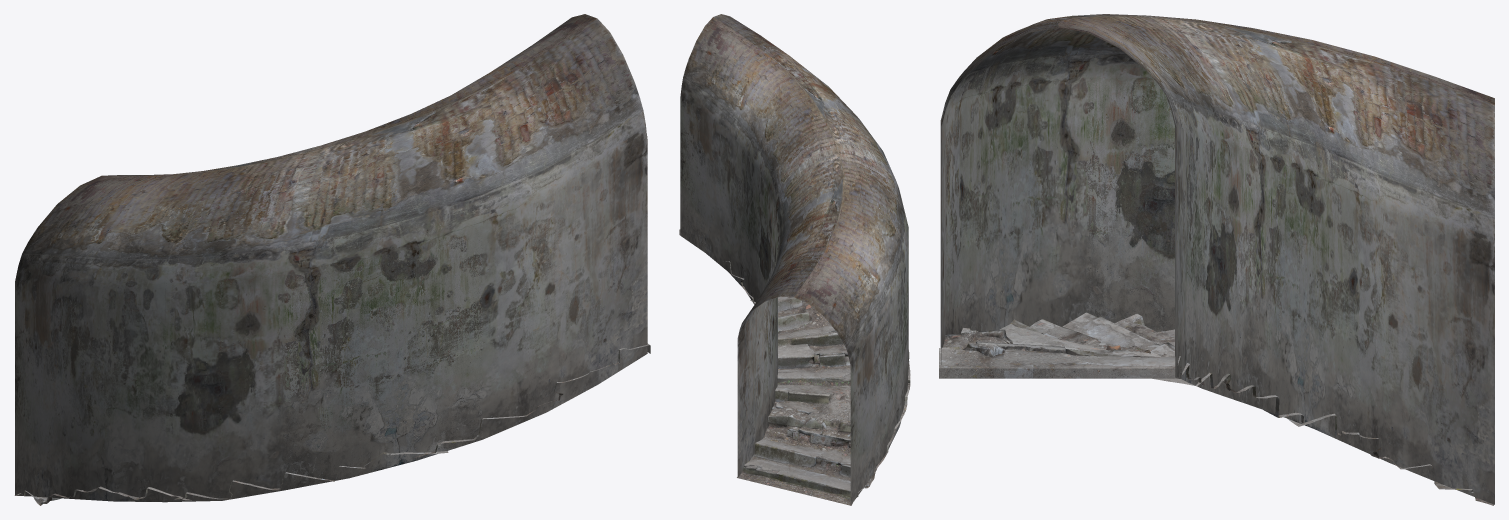
The model's file is SM_Stairs_01_14_L.fbx.
3 views of the same model, side by side, from view 1: azimuth 30°, elevation 25°; view 2: azimuth 150°, elevation 25°; view 3: azimuth 270°, elevation 25° (orthographic). The views are drawn at different scales.
Visible parts, largest first — view 1: sm_Stairs_01_14_L_LOD0; view 2: sm_Stairs_01_14_L_LOD0; view 3: sm_Stairs_01_14_L_LOD0.
Part boxes in pixels (x1,y1,x2,y2): sm_Stairs_01_14_L_LOD0: [14, 14, 650, 505]; sm_Stairs_01_14_L_LOD0: [679, 14, 910, 505]; sm_Stairs_01_14_L_LOD0: [939, 14, 1494, 505].
Bounding box in the file's own units: 474 × 462 × 569.
